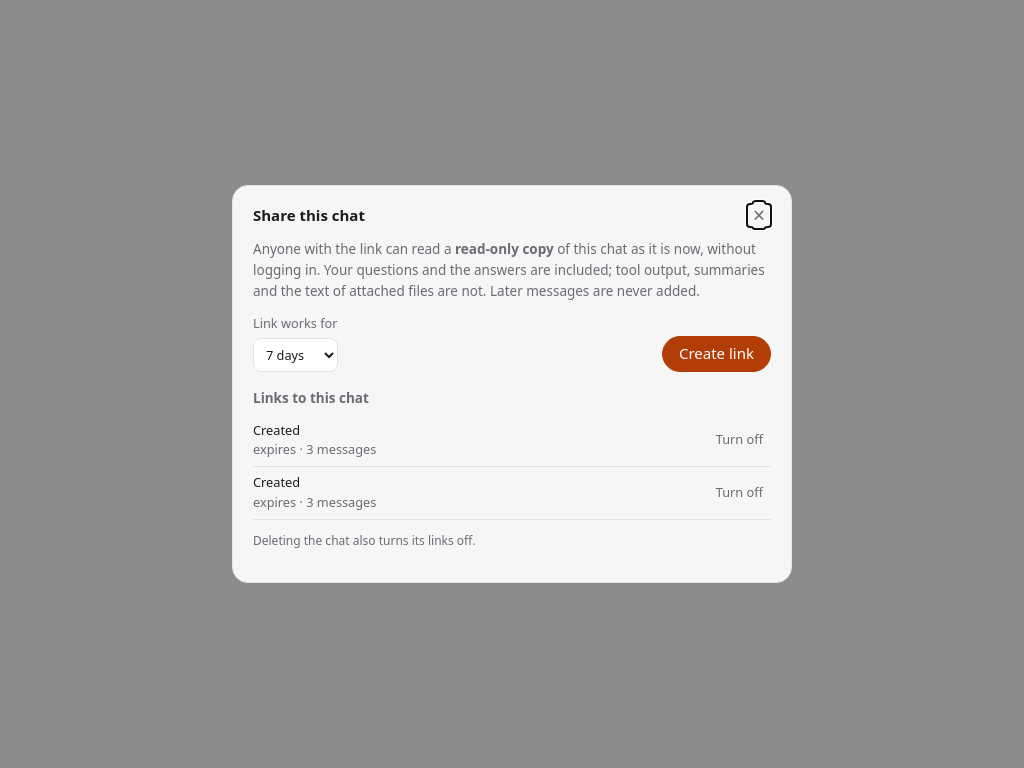
Test: turning links off › asks first, then revokes and removes the row
The width and height of the screenshot is (1024, 768).
Click the 1st button with class "danger". click: (739, 440)
box: 708,428 -> 771,452
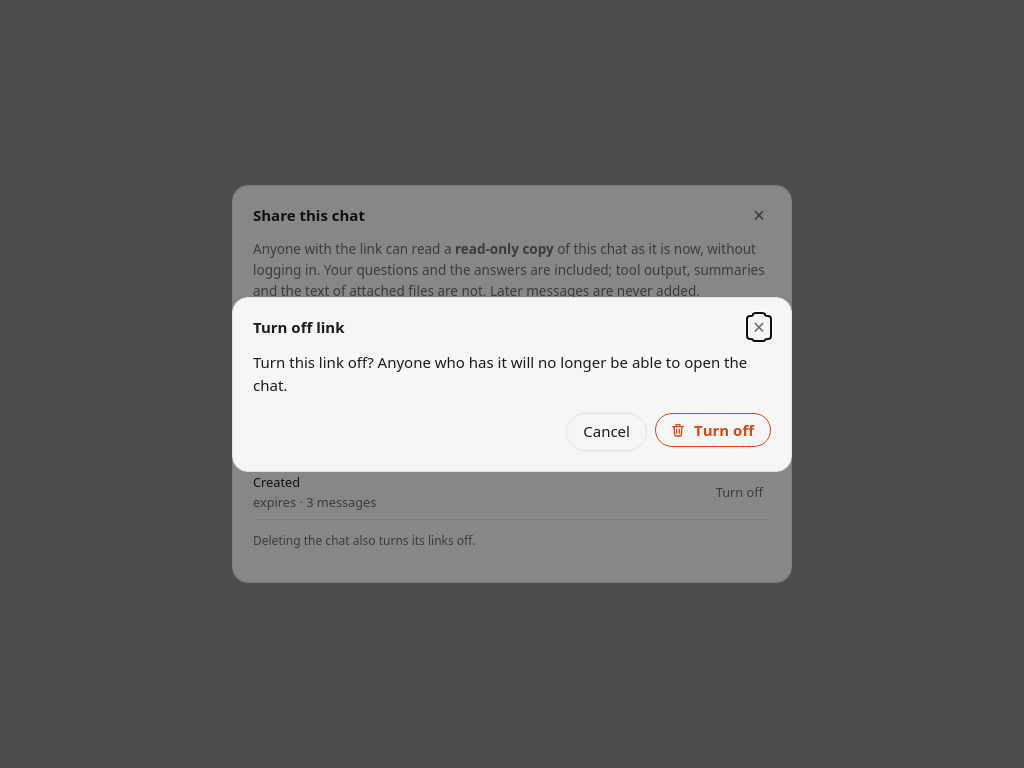
Click the button with class "cancel". click: (607, 432)
box: 566,413 -> 647,451
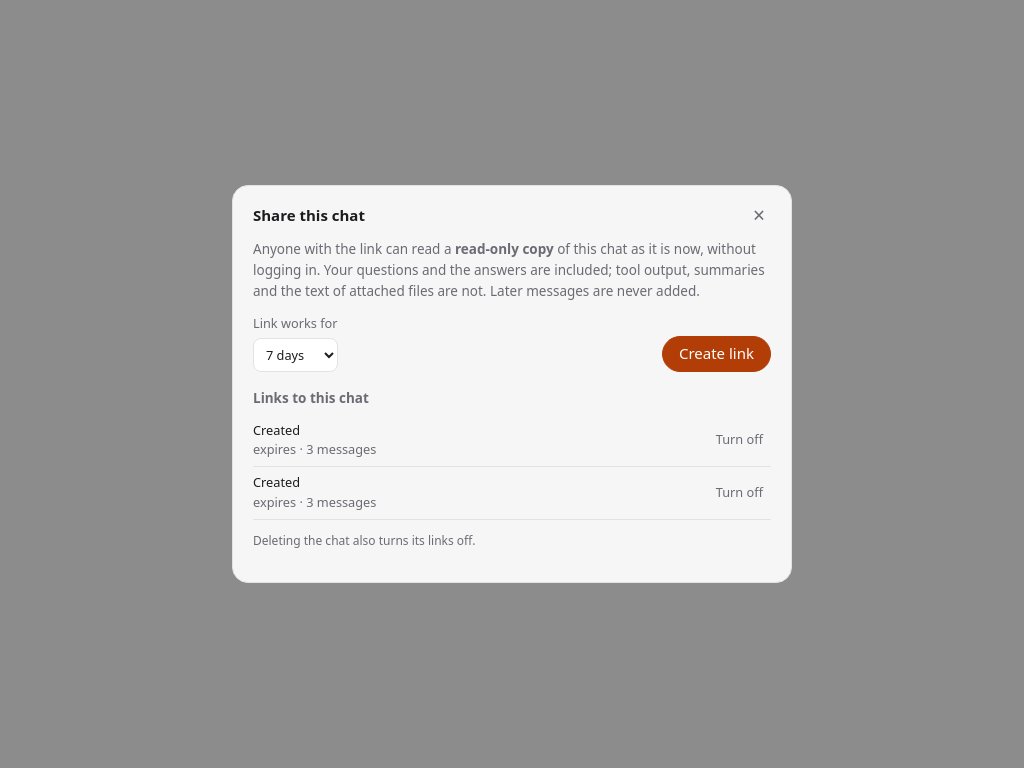
Click the 1st button with class "danger". click: (739, 440)
box: 708,428 -> 771,452
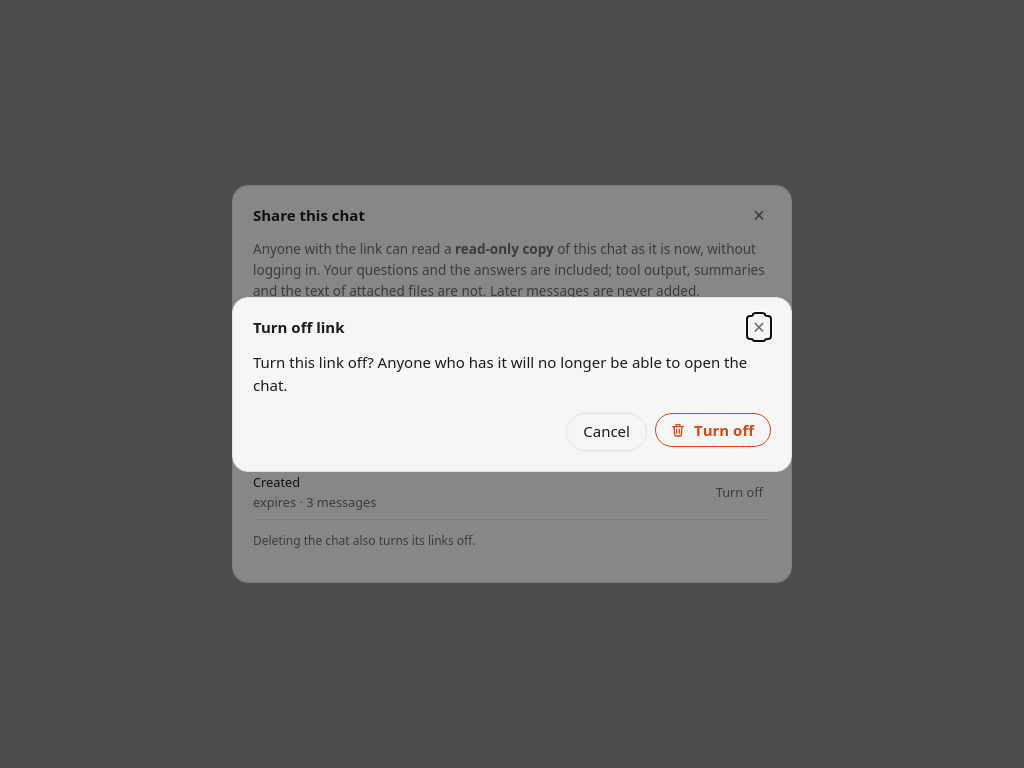
Click the button with class "confirm". click: (713, 430)
box: 655,413 -> 771,447
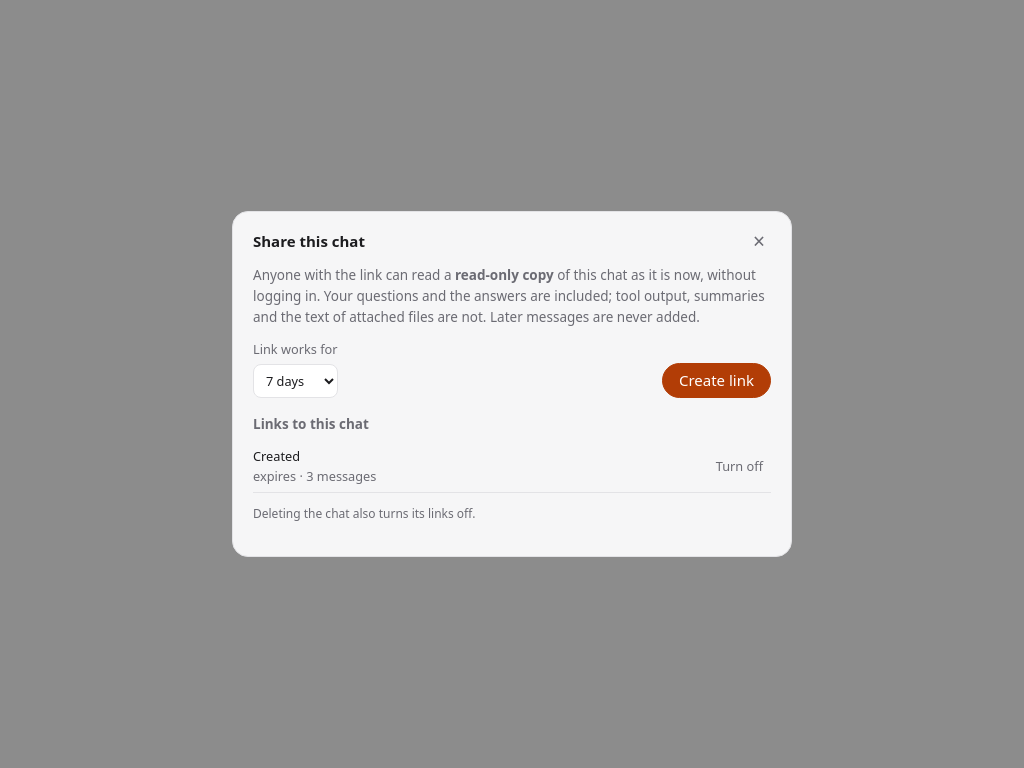
Result: the number of list items is 1 at 253,441 -> 771,493
